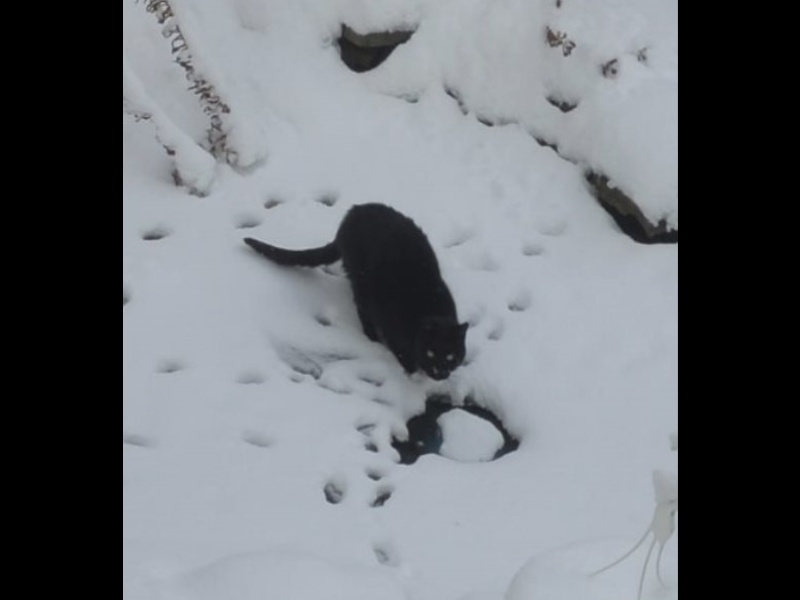cat: (239, 198, 474, 383)
